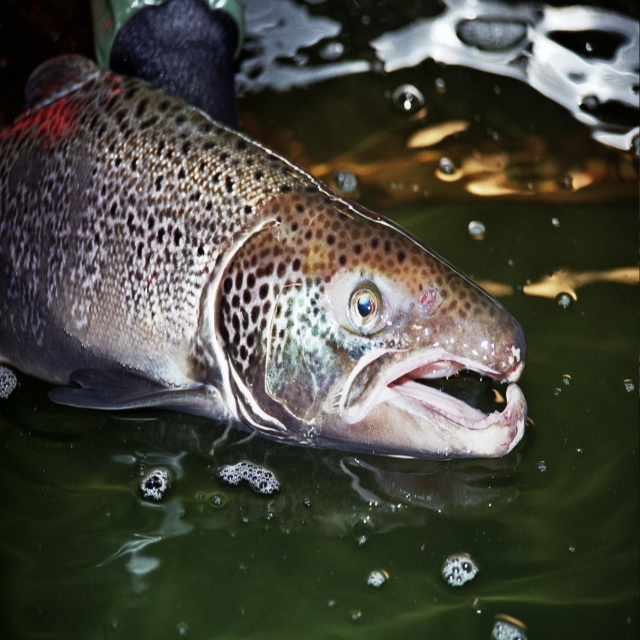Fish: (0, 53, 527, 458)
